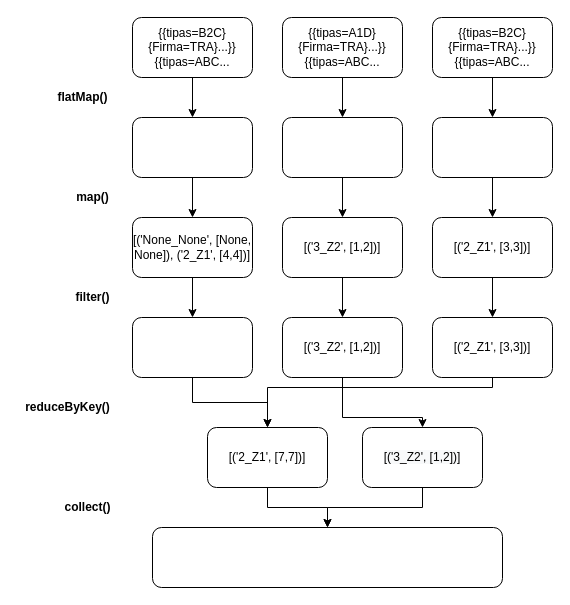
This 570x605 diagram has some shape labels left out. Each missing label, with the centre of its shape:
"['tipas=555}{Firma=TRA}...],[tipas=ABC...]" belongs at pixel 492 147.
"['tipas=A1D}{Firma=TRA}...],[tipas=ABC...]" belongs at pixel 342 147.
"['tipas=B2C}{Firma=TRA}...],[tipas=ABC...]" belongs at pixel 192 147.
"[('2_Z1', [4,4])]" belongs at pixel 192 347.
"[('2_Z1', [7,7]), ('3_Z2', [1,2]) ]" belongs at pixel 327 557.
